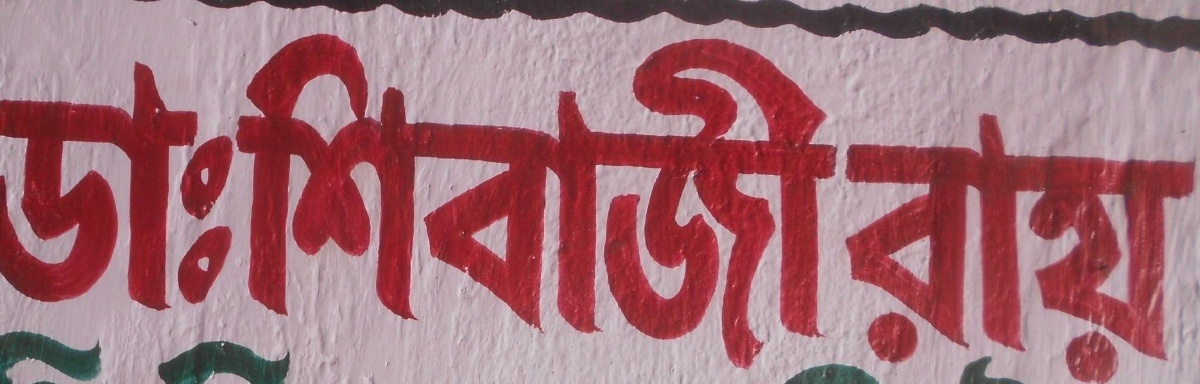text: (241, 17, 256, 376), (257, 17, 272, 376), (273, 17, 288, 376), (289, 17, 304, 376), (305, 17, 320, 376), (321, 17, 336, 376), (337, 17, 352, 376), (353, 17, 368, 376), (369, 17, 384, 376), (385, 17, 400, 376), (401, 17, 416, 376), (417, 17, 432, 376), (433, 17, 448, 376), (449, 17, 464, 376), (465, 17, 480, 376), (481, 17, 496, 376), (497, 17, 512, 376), (513, 17, 528, 376), (529, 17, 544, 376), (545, 17, 560, 376), (561, 17, 576, 376), (577, 17, 592, 376), (593, 17, 608, 376), (609, 17, 624, 376), (625, 17, 640, 376), (641, 17, 656, 376), (657, 17, 672, 376), (673, 17, 688, 376), (689, 17, 704, 376), (705, 17, 720, 376), (721, 17, 736, 376), (737, 17, 752, 376), (753, 17, 768, 376), (769, 17, 784, 376), (785, 17, 800, 376), (801, 17, 816, 376), (817, 17, 832, 376), (833, 17, 846, 376), (849, 106, 864, 384), (865, 106, 880, 384), (881, 106, 896, 384), (897, 106, 912, 384), (913, 106, 928, 384), (929, 106, 944, 384), (945, 106, 960, 384), (961, 106, 976, 384), (977, 106, 992, 384), (993, 106, 1008, 384), (1009, 106, 1024, 384), (1025, 106, 1040, 384), (1041, 106, 1056, 384), (1057, 106, 1072, 384), (1073, 106, 1088, 384), (1089, 106, 1104, 384), (1105, 106, 1120, 384), (1121, 106, 1136, 384), (1137, 106, 1152, 384), (1153, 106, 1168, 384), (1169, 106, 1184, 384), (1, 54, 16, 316), (17, 54, 32, 316), (33, 54, 48, 316), (49, 54, 64, 316), (65, 54, 80, 316), (81, 54, 96, 316), (97, 54, 112, 316), (113, 54, 128, 316), (129, 54, 144, 316), (145, 54, 160, 316), (161, 54, 176, 316), (177, 54, 192, 316), (193, 54, 208, 316), (209, 54, 224, 316), (1185, 106, 1199, 384), (225, 54, 237, 316), (233, 17, 240, 376), (844, 106, 848, 384), (17, 331, 32, 383), (33, 331, 48, 383), (49, 331, 64, 383), (65, 331, 80, 383), (81, 331, 96, 383), (2, 331, 16, 383), (161, 343, 176, 384), (177, 343, 192, 384), (193, 343, 208, 384), (209, 343, 224, 384), (225, 343, 240, 384), (241, 343, 256, 384), (257, 343, 272, 384), (273, 343, 287, 384), (961, 356, 976, 383), (977, 356, 992, 383), (993, 356, 1008, 383), (1009, 356, 1021, 383), (785, 365, 800, 383), (801, 365, 816, 383), (817, 365, 832, 383), (833, 365, 848, 383), (849, 365, 864, 383), (865, 365, 878, 383), (97, 331, 99, 383)
